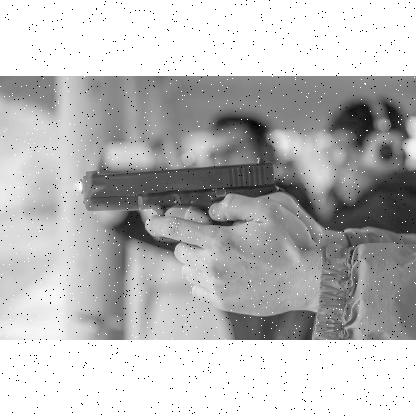gun: (80, 155, 286, 238)
